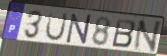3: (22, 10, 44, 40)
8: (90, 16, 112, 48)
B: (110, 18, 137, 49)
N: (131, 20, 164, 53), (65, 13, 93, 45)
U: (44, 11, 69, 43)
